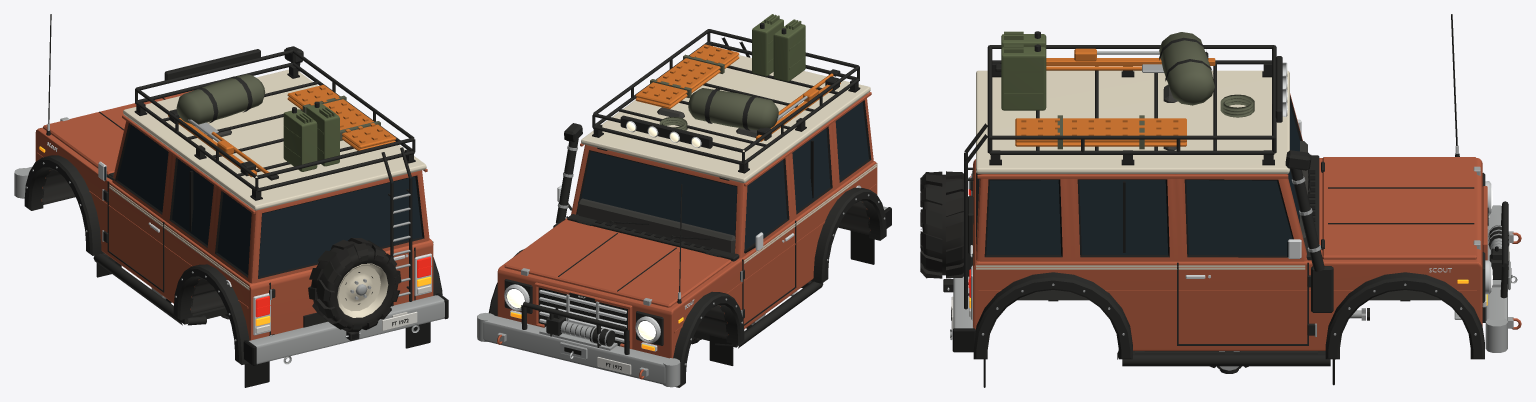
Rendered from before.glb.
3 views of the same model, side by side, from view 1: azimuth 30°, elevation 25°; view 2: azimuth 150°, elevation 25°; view 3: azimuth 270°, elevation 25° (orthographic). The views are drawn at different scales.
Visible parts, largest first — view 1: Body; view 2: Body; view 3: Body.
Part boxes in pixels (left/top/right/bottom): Body: left=14, top=14, right=448, bottom=387; Body: left=477, top=14, right=891, bottom=387; Body: left=920, top=14, right=1521, bottom=387.
Bounding box in the file's own units: 2.05 × 2.5 × 4.27.
